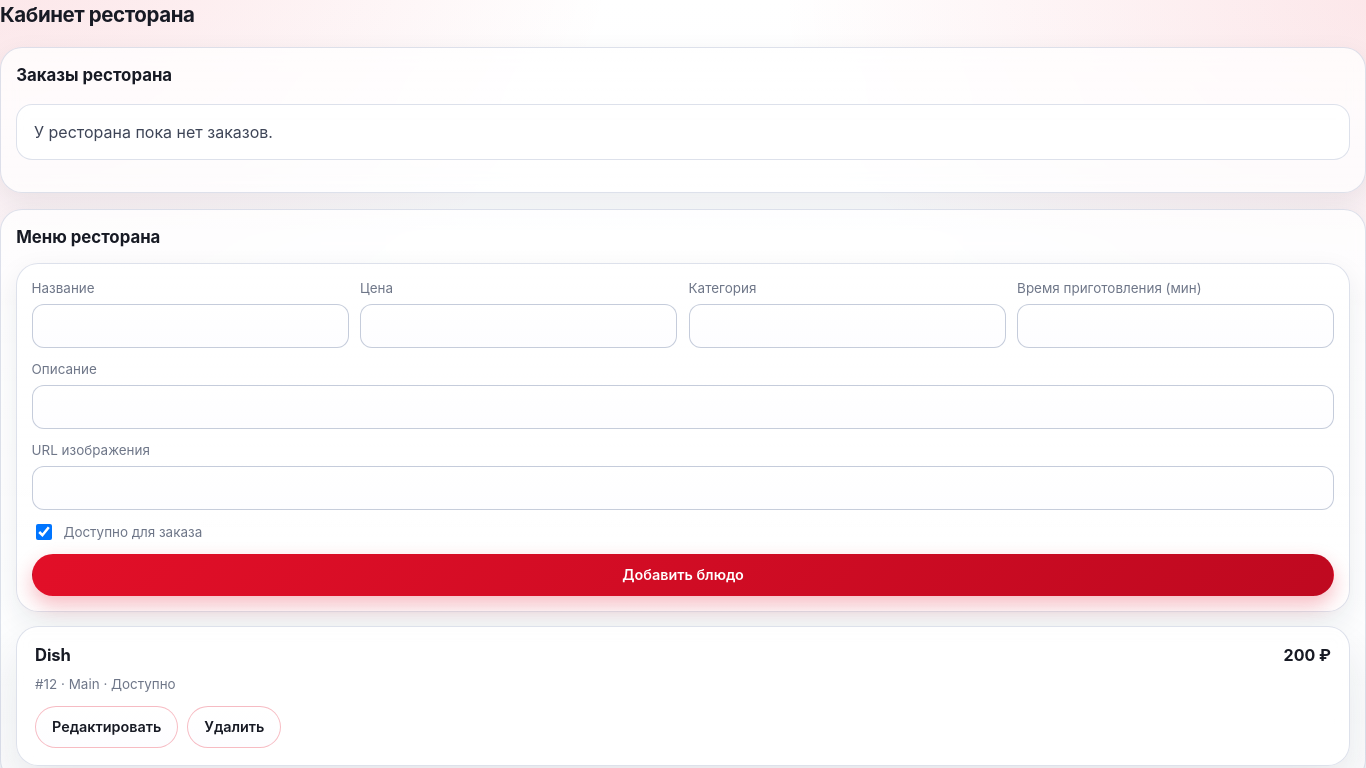
Test: RestaurantDashboardPage › validates dish forms and shows delete errors
Expected: the heading "Dish" is shown, [35,644,71,668]
Type "Invalid Dish" into the field labelled "Название" at (190, 326), box [32,304,349,348]
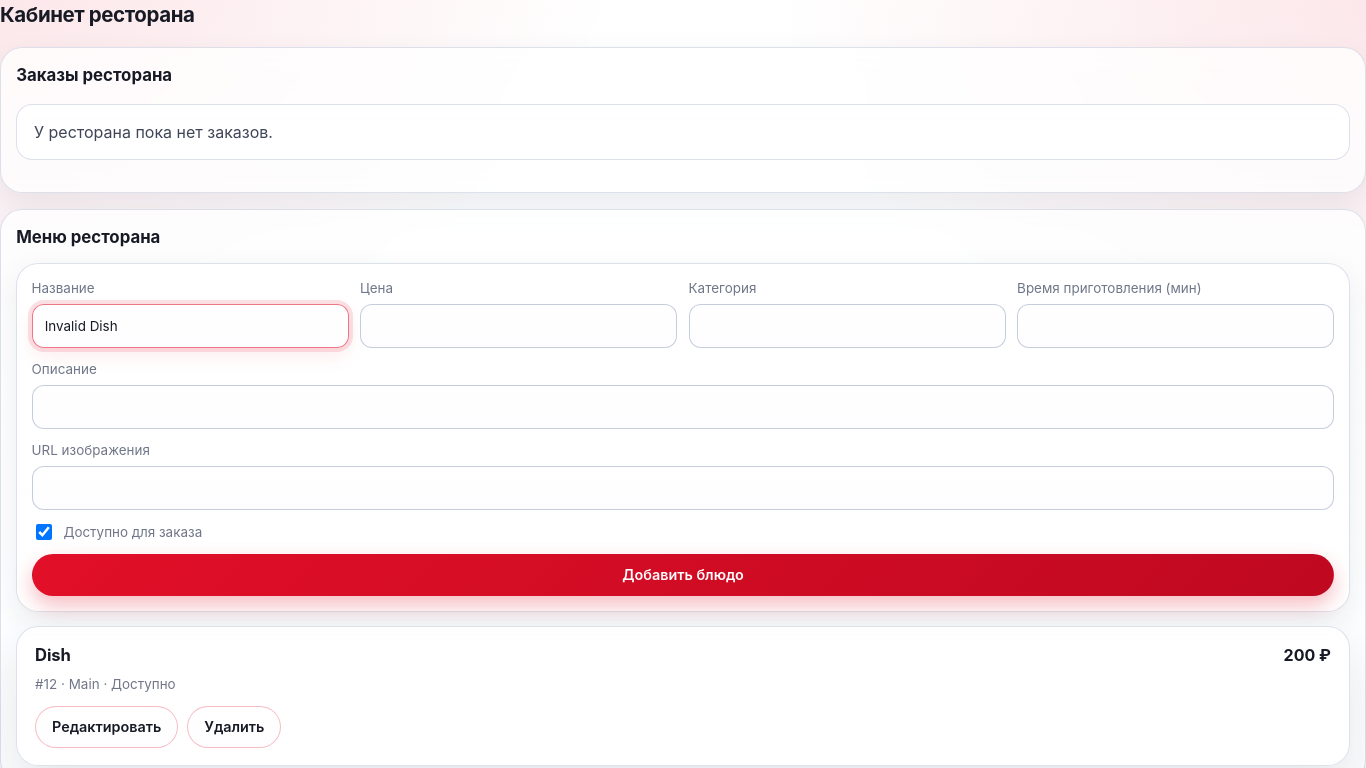
Type "-1" into the number field labelled "Цена" at (519, 326), box [360,304,677,348]
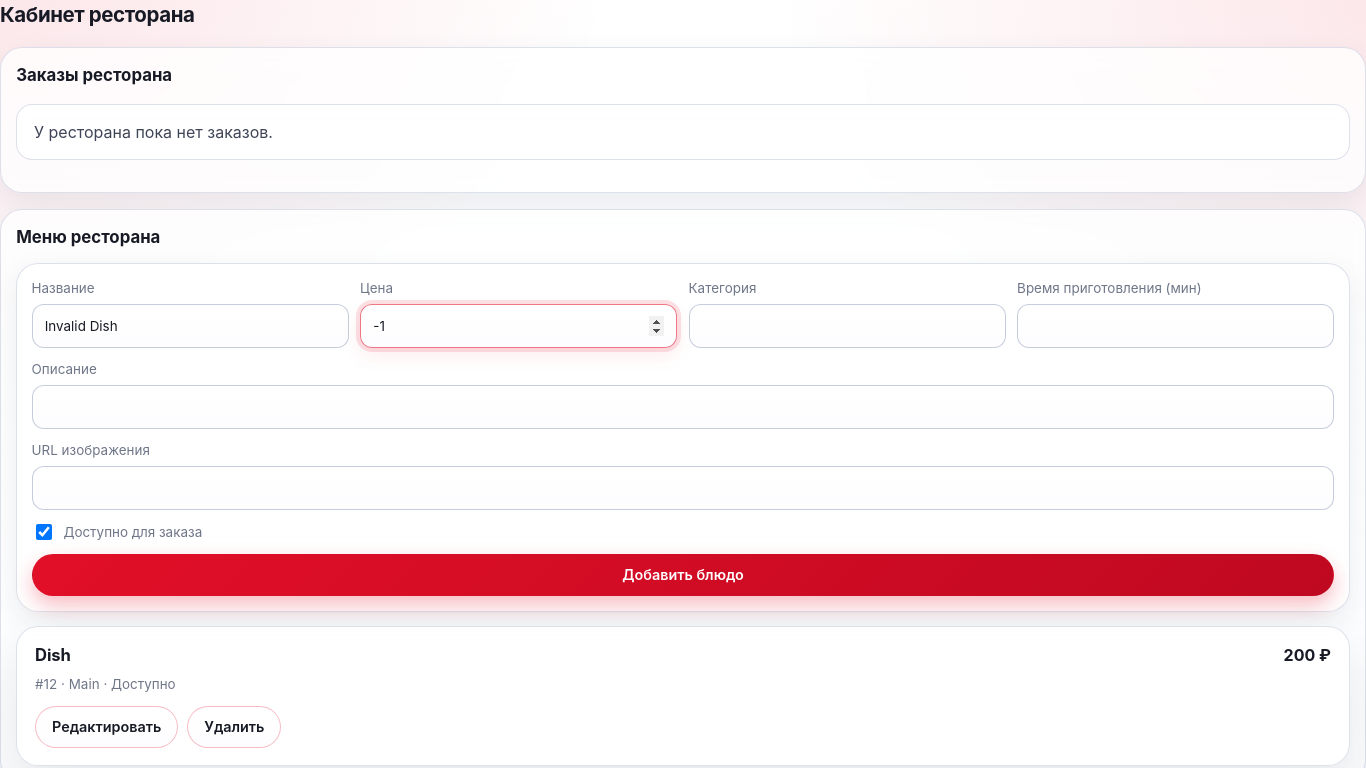
Submit the form named "Добавить блюдо", box [16,263,1350,612]
(page scrolled)
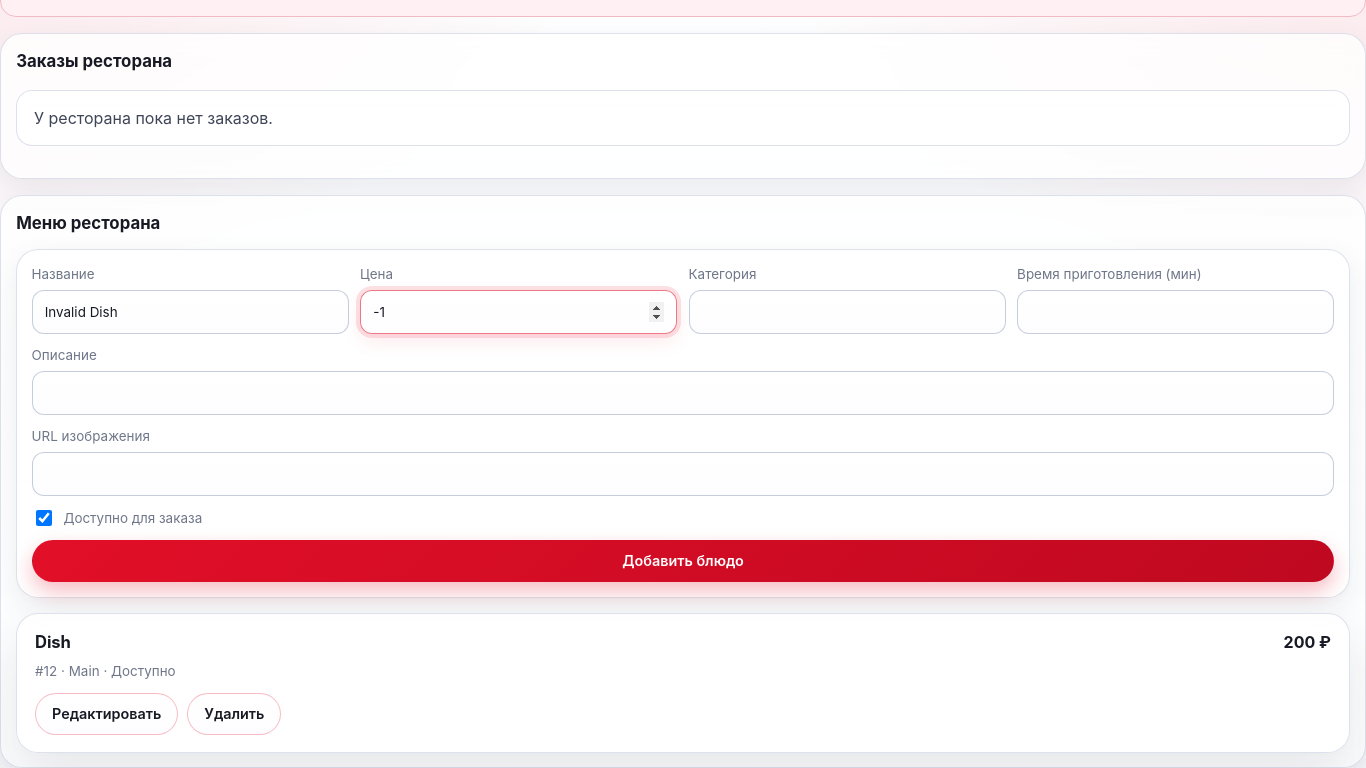
Click the button "Удалить" at (234, 714), box [187,692,282,735]
(page scrolled)
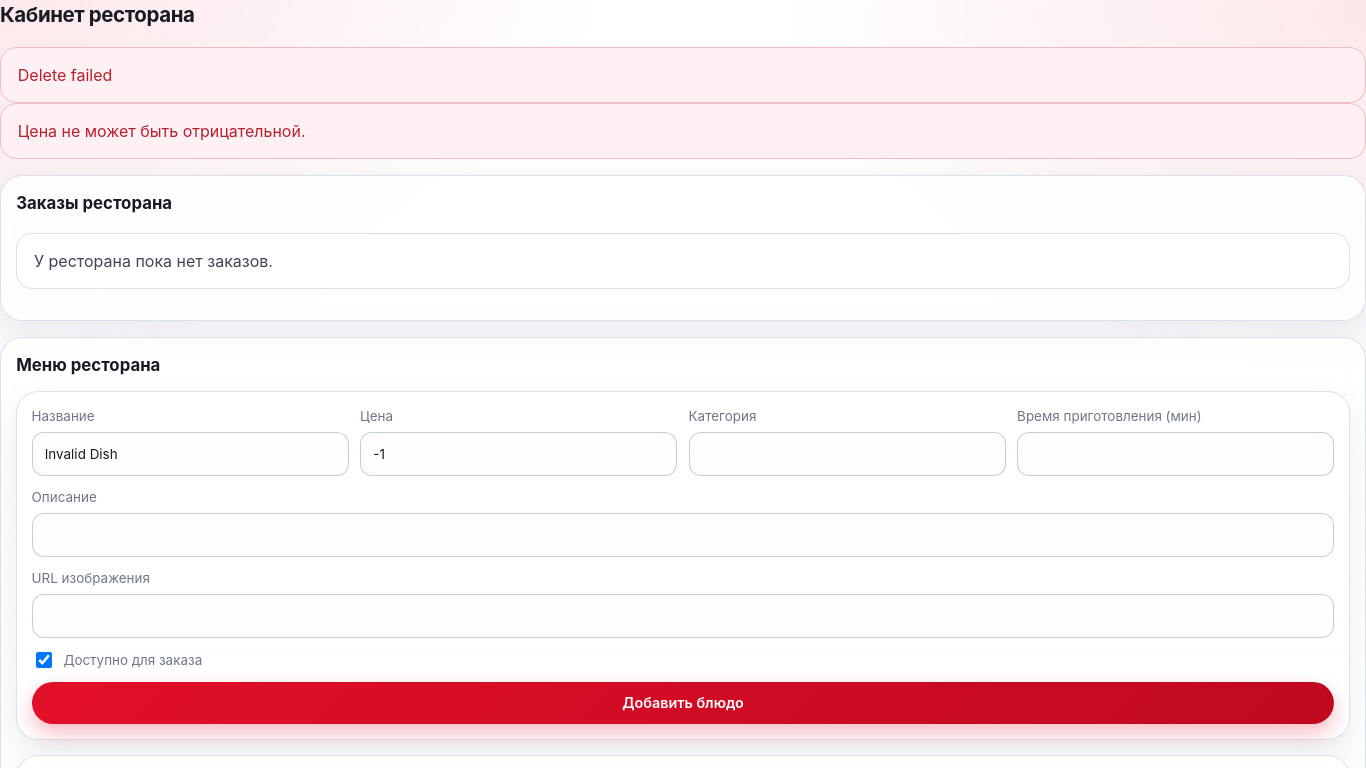
Result: the text "Delete failed" is shown at [18,65,112,85]
